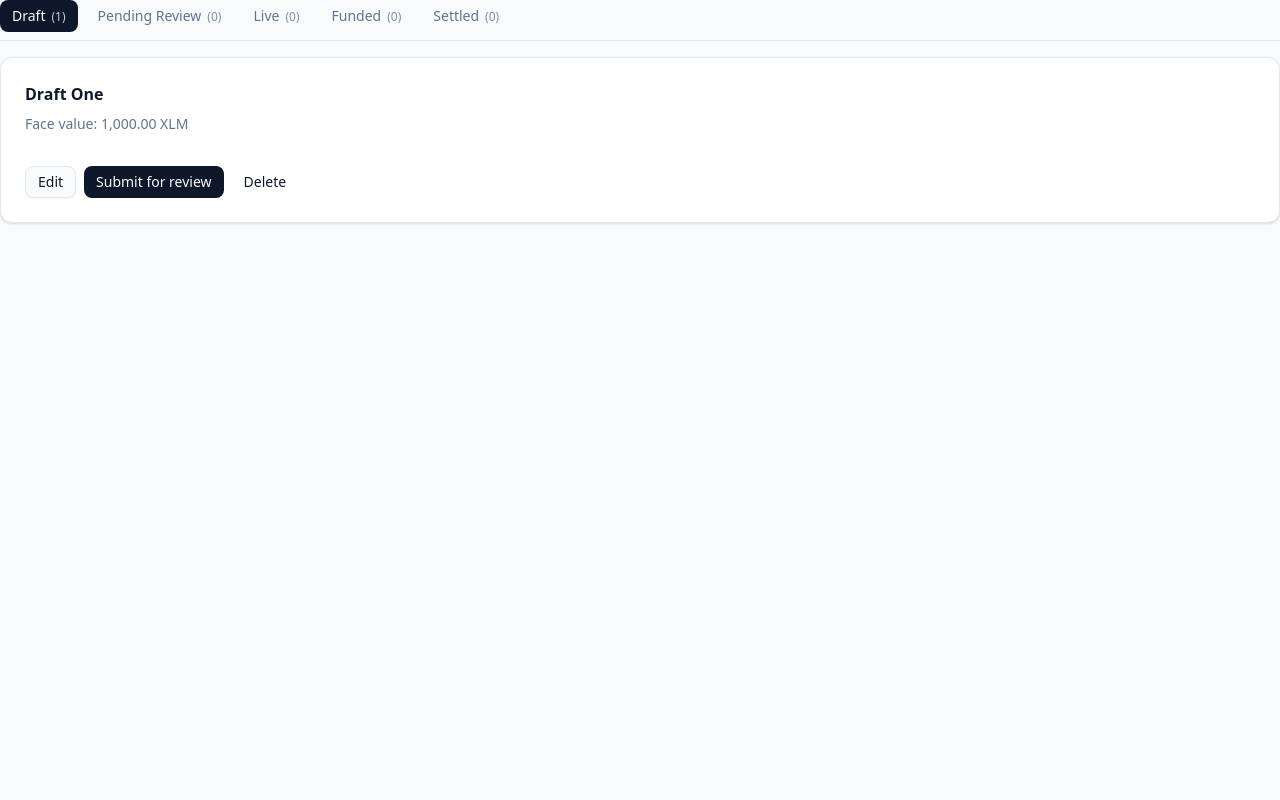
delete confirmation › cancelling closes the dialog without deleting
Click the button with test id "delete-invoice-d1" at (265, 182), box [232,166,298,198]
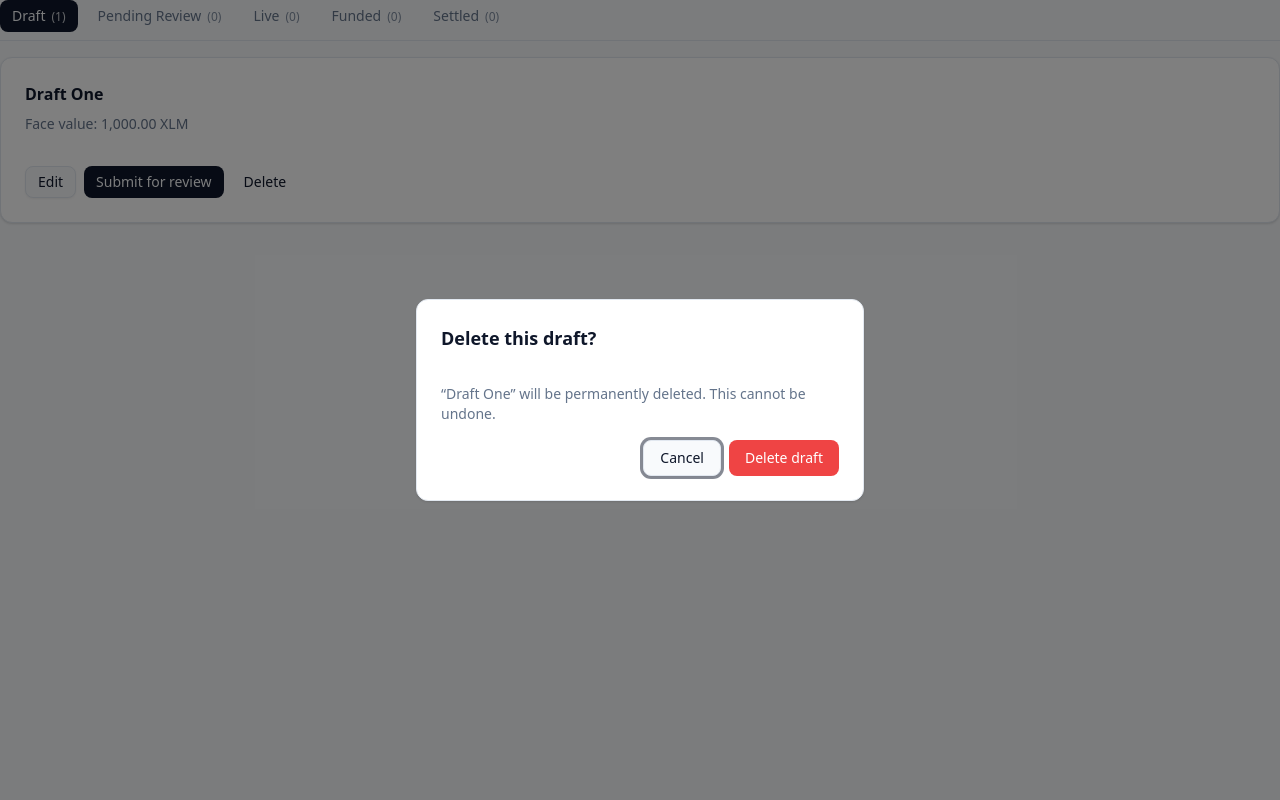
Click the button "Cancel" at (682, 458), box [643,440,721,476]
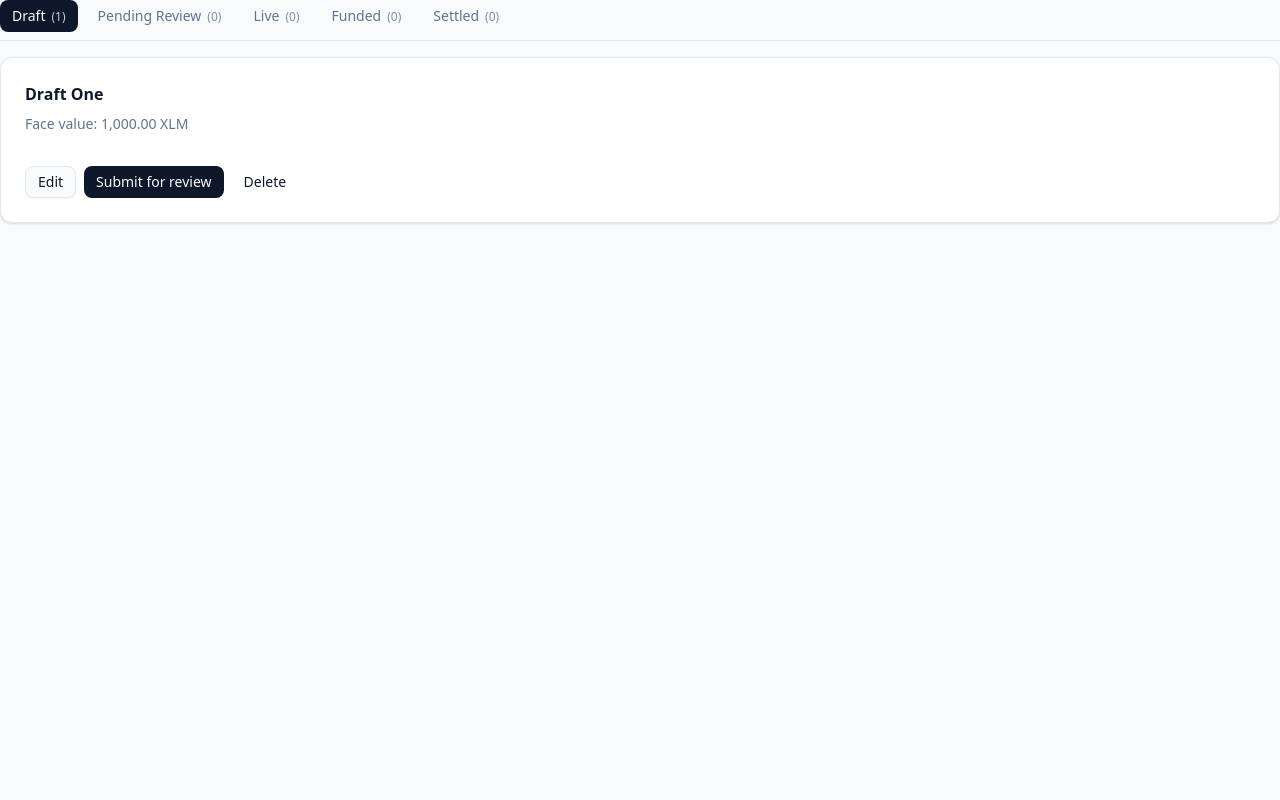
expect the dialog is gone: met
